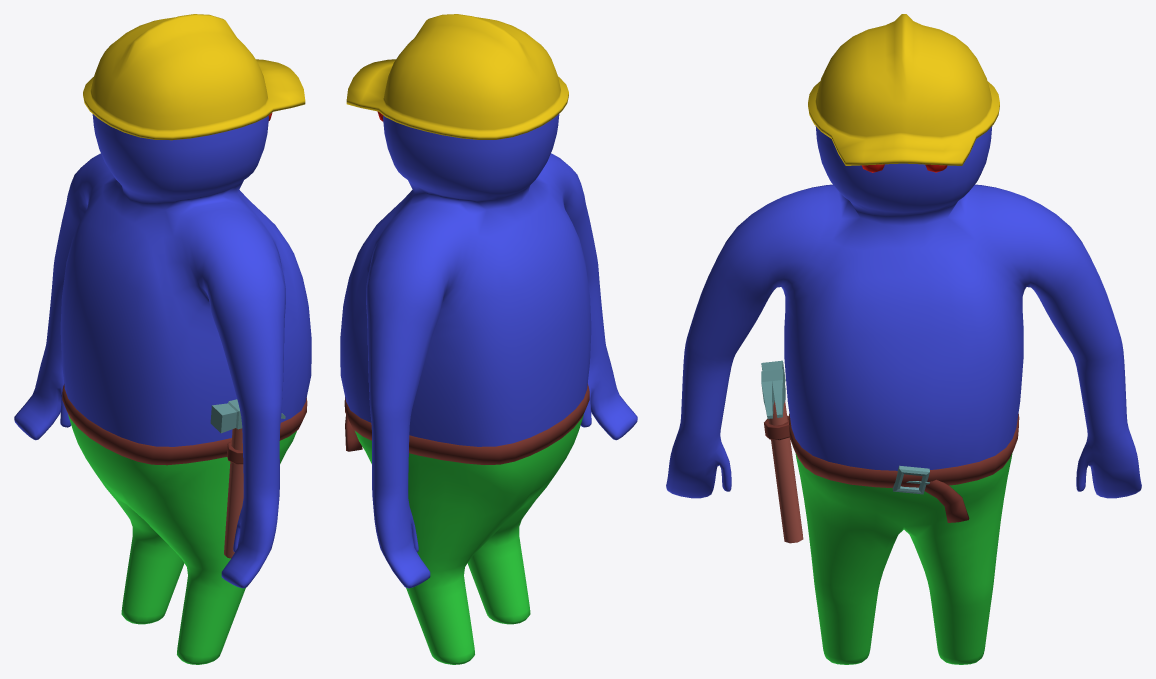
File: Player_Mesh3.fbx
3 renders of one model, left to right at view 1: azimuth 30°, elevation 25°; view 2: azimuth 150°, elevation 25°; view 3: azimuth 270°, elevation 25°, orthographic. The views are drawn at different scales.
Visible parts, largest first — view 1: Cube.001, Cube.000, Cube.002, Cylinder; view 2: Cube.001, Cube.000, Cube.002; view 3: Cube.001, Cube.000, Cube.002, Cylinder.
Part boxes in pixels (bbox=[...]): Cube.001: bbox=[14, 113, 311, 664]; Cube.000: bbox=[83, 14, 305, 140]; Cube.002: bbox=[62, 384, 307, 465]; Cylinder: bbox=[210, 399, 285, 558]; Cube.001: bbox=[340, 111, 637, 664]; Cube.000: bbox=[346, 14, 568, 139]; Cube.002: bbox=[344, 383, 589, 464]; Cube.001: bbox=[666, 126, 1141, 664]; Cube.000: bbox=[808, 14, 999, 165]; Cube.002: bbox=[788, 413, 1019, 522]; Cylinder: bbox=[761, 360, 803, 543].
Bounding box in the file's own units: 75.45 × 214 × 144.
